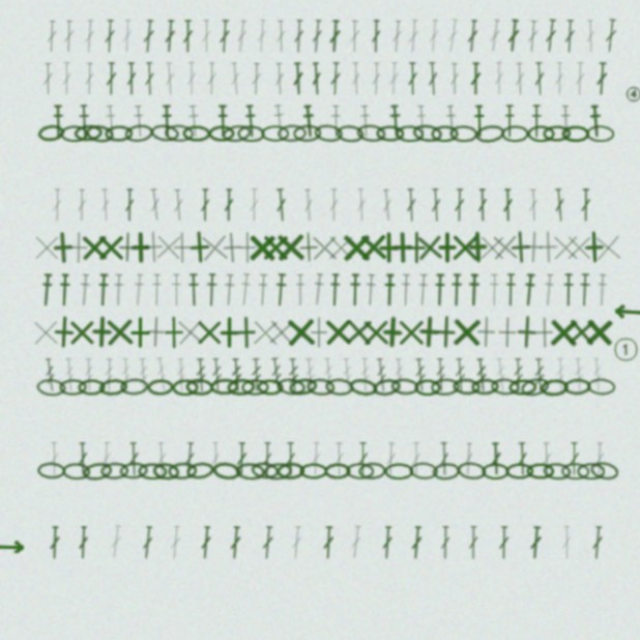chain: (502, 384, 531, 405), (569, 465, 598, 486), (458, 140, 488, 160), (79, 466, 109, 486), (82, 140, 111, 160), (214, 140, 243, 160), (336, 385, 365, 405), (359, 385, 388, 405), (344, 140, 373, 159), (398, 140, 427, 159), (278, 385, 307, 404), (179, 466, 208, 485), (204, 466, 233, 485), (441, 466, 470, 485), (120, 140, 148, 159), (145, 140, 173, 159), (303, 140, 331, 159), (267, 385, 295, 404), (242, 466, 270, 485), (35, 386, 64, 404), (227, 467, 256, 485), (36, 140, 63, 159), (324, 141, 352, 159), (95, 386, 123, 404), (521, 386, 549, 404), (254, 467, 282, 485), (417, 467, 445, 485), (524, 467, 552, 485), (147, 467, 174, 485), (71, 141, 99, 158), (159, 141, 187, 158), (268, 141, 296, 158), (377, 386, 405, 403), (416, 386, 444, 403), (115, 467, 143, 484), (162, 467, 190, 484), (395, 467, 423, 484), (283, 141, 310, 158), (116, 386, 143, 403), (179, 386, 206, 403), (203, 386, 230, 403), (219, 386, 246, 403), (296, 386, 323, 403), (314, 386, 341, 403), (437, 386, 464, 403), (455, 386, 482, 403), (474, 386, 501, 403), (544, 386, 571, 403), (567, 386, 594, 403), (36, 467, 63, 484), (97, 467, 124, 484), (267, 467, 294, 484), (346, 467, 373, 484), (133, 468, 161, 484), (371, 468, 399, 484), (58, 142, 85, 158), (101, 142, 128, 158), (176, 142, 203, 158), (229, 142, 256, 158), (252, 142, 279, 158), (363, 142, 390, 158), (382, 142, 409, 158), (416, 142, 443, 158), (434, 142, 461, 158), (484, 142, 511, 158), (509, 142, 536, 158), (524, 142, 551, 158), (542, 142, 569, 158), (566, 142, 593, 158), (57, 387, 84, 403), (75, 387, 102, 403), (233, 387, 260, 403), (491, 387, 518, 403), (60, 468, 87, 484), (289, 468, 316, 484), (334, 468, 361, 484), (465, 468, 492, 484), (488, 468, 515, 484), (508, 468, 535, 484), (542, 468, 569, 484), (557, 468, 584, 484), (201, 142, 227, 158), (142, 387, 168, 403), (166, 387, 192, 403), (248, 387, 274, 403), (400, 387, 426, 403), (313, 468, 339, 484)
double: (430, 39, 444, 72), (471, 39, 485, 72), (489, 39, 503, 72), (525, 39, 539, 72), (583, 39, 597, 72), (143, 202, 157, 235), (105, 528, 119, 561), (337, 528, 350, 561), (80, 40, 93, 72), (137, 40, 150, 72), (227, 40, 240, 72), (317, 40, 330, 72), (393, 40, 406, 72), (450, 40, 463, 72), (508, 40, 521, 72), (166, 203, 179, 235), (265, 203, 278, 235), (534, 203, 547, 235), (136, 529, 149, 561), (163, 529, 176, 561), (221, 529, 234, 561), (252, 529, 265, 561), (280, 529, 293, 561), (396, 529, 409, 561), (511, 529, 524, 561), (44, 40, 56, 72), (100, 40, 112, 72), (158, 40, 170, 72), (211, 40, 223, 72), (300, 40, 312, 72), (377, 40, 389, 72), (413, 40, 425, 72), (544, 40, 556, 72), (158, 81, 170, 113), (221, 81, 233, 113), (264, 81, 276, 113), (282, 81, 294, 113), (318, 81, 330, 113), (412, 81, 424, 113), (496, 81, 508, 113), (515, 81, 527, 113), (554, 81, 566, 113), (575, 81, 587, 113), (292, 203, 304, 235), (343, 203, 355, 235), (368, 203, 380, 235), (391, 203, 403, 235), (415, 203, 427, 235), (123, 448, 135, 480), (150, 448, 162, 480), (177, 448, 189, 480), (299, 448, 311, 480), (473, 448, 485, 480), (522, 448, 534, 480), (47, 529, 59, 561), (193, 529, 205, 561), (311, 529, 323, 561), (368, 529, 380, 561), (571, 529, 583, 561), (61, 40, 72, 72), (117, 40, 128, 72), (176, 40, 187, 72), (247, 40, 258, 72), (283, 40, 294, 72), (337, 40, 348, 72), (41, 81, 52, 113), (59, 81, 70, 113), (102, 81, 113, 113), (139, 81, 150, 113), (199, 81, 210, 113), (242, 81, 253, 113), (300, 81, 311, 113), (338, 81, 349, 113), (375, 81, 386, 113), (393, 81, 404, 113), (454, 81, 465, 113), (96, 203, 107, 235), (240, 203, 251, 235), (317, 203, 328, 235), (438, 203, 449, 235), (485, 203, 496, 235), (560, 203, 571, 235), (47, 448, 58, 480), (97, 448, 108, 480), (228, 448, 239, 480), (275, 448, 286, 480), (322, 448, 333, 480), (345, 448, 356, 480), (372, 448, 383, 480), (447, 448, 458, 480), (499, 448, 510, 480), (549, 448, 560, 480), (75, 529, 86, 561), (481, 529, 492, 561), (194, 40, 204, 72), (266, 40, 276, 72), (358, 40, 368, 72), (565, 40, 575, 72), (81, 81, 91, 113), (122, 81, 132, 113), (180, 81, 190, 113), (358, 81, 368, 113), (434, 81, 444, 113), (477, 81, 487, 113), (535, 81, 545, 113), (50, 203, 60, 235), (74, 203, 84, 235), (120, 203, 130, 235), (193, 203, 203, 235), (216, 203, 226, 235), (461, 203, 471, 235), (510, 203, 520, 235), (75, 448, 85, 480), (203, 448, 213, 480), (253, 448, 263, 480), (397, 448, 407, 480), (424, 448, 434, 480), (574, 448, 584, 480), (425, 529, 435, 561), (452, 529, 462, 561), (542, 529, 552, 561)
half_double: (262, 121, 277, 154), (229, 284, 244, 317), (300, 284, 315, 317), (100, 122, 114, 154), (127, 122, 141, 154), (180, 122, 194, 154), (235, 122, 249, 154), (291, 122, 305, 154), (375, 122, 389, 154), (400, 122, 414, 154), (429, 122, 443, 154), (568, 122, 582, 154), (38, 285, 52, 317), (75, 285, 89, 317), (127, 285, 141, 317), (214, 285, 228, 317), (264, 285, 278, 317), (401, 285, 415, 317), (504, 285, 518, 317), (523, 285, 537, 317), (75, 122, 88, 154), (346, 122, 359, 154), (540, 122, 553, 154), (56, 285, 69, 317), (93, 285, 106, 317), (108, 285, 121, 317), (198, 285, 211, 317), (247, 285, 260, 317), (317, 285, 330, 317), (351, 285, 364, 317), (385, 285, 398, 317), (418, 285, 431, 317), (451, 285, 464, 317), (558, 285, 571, 317), (575, 285, 588, 317), (50, 122, 62, 154), (155, 122, 167, 154), (209, 122, 221, 154), (318, 122, 330, 154), (457, 122, 469, 154), (486, 122, 498, 154), (512, 122, 524, 154), (145, 285, 157, 317), (164, 285, 176, 317), (181, 285, 193, 317), (284, 285, 296, 317), (337, 285, 349, 317), (370, 285, 382, 317), (435, 285, 447, 317), (471, 285, 483, 317), (487, 285, 499, 317), (543, 285, 555, 317)
noise: (591, 345, 618, 372), (591, 313, 631, 331), (602, 102, 621, 121), (0, 543, 25, 555)
single: (44, 243, 78, 277), (190, 243, 224, 277), (207, 243, 241, 277), (398, 243, 432, 277), (570, 243, 604, 277), (106, 243, 139, 276), (132, 243, 165, 276), (146, 243, 179, 276), (176, 243, 209, 276), (264, 243, 297, 276), (281, 243, 314, 276), (344, 243, 377, 276), (445, 243, 478, 276), (471, 243, 504, 276), (486, 243, 519, 276), (499, 243, 532, 276), (513, 243, 546, 276), (557, 243, 590, 276), (45, 325, 78, 358), (82, 325, 115, 358), (99, 325, 132, 358), (134, 325, 167, 358), (167, 325, 200, 358), (255, 325, 288, 358), (274, 325, 307, 358), (310, 325, 343, 358), (330, 325, 363, 358), (362, 325, 395, 358), (398, 325, 431, 358), (414, 325, 447, 358), (434, 325, 467, 358), (453, 325, 486, 358), (492, 325, 525, 358), (545, 325, 578, 358), (562, 325, 595, 358), (29, 244, 61, 276), (60, 244, 92, 276), (75, 244, 107, 276), (91, 244, 123, 276), (120, 244, 152, 276), (160, 244, 192, 276), (223, 244, 255, 276), (237, 244, 269, 276), (250, 244, 282, 276), (297, 244, 329, 276), (313, 244, 345, 276), (328, 244, 360, 276), (359, 244, 391, 276), (373, 244, 405, 276), (386, 244, 418, 276), (416, 244, 448, 276), (433, 244, 465, 276), (459, 244, 491, 276), (530, 244, 562, 276), (543, 244, 575, 276), (28, 326, 60, 358), (63, 326, 95, 358), (119, 326, 151, 358), (152, 326, 184, 358), (186, 326, 218, 358), (205, 326, 237, 358), (222, 326, 254, 358), (240, 326, 272, 358), (292, 326, 324, 358), (347, 326, 379, 358), (381, 326, 413, 358), (474, 326, 506, 358), (510, 326, 542, 358), (528, 326, 560, 358)
treble: (149, 366, 163, 399), (260, 366, 274, 399), (399, 367, 413, 399), (458, 367, 472, 399), (477, 367, 491, 399), (42, 367, 55, 399), (61, 367, 74, 399), (132, 367, 145, 399), (203, 367, 216, 399), (222, 367, 235, 399), (277, 367, 290, 399), (293, 367, 306, 399), (329, 367, 342, 399), (362, 367, 375, 399), (438, 367, 451, 399), (188, 367, 200, 399), (311, 367, 323, 399), (515, 367, 527, 399), (553, 367, 565, 399), (571, 367, 583, 399), (116, 367, 127, 399), (242, 367, 253, 399), (347, 367, 358, 399), (380, 367, 391, 399), (420, 367, 431, 399), (495, 367, 506, 399), (81, 367, 91, 399), (100, 367, 110, 399), (170, 367, 180, 399), (536, 367, 546, 399)
